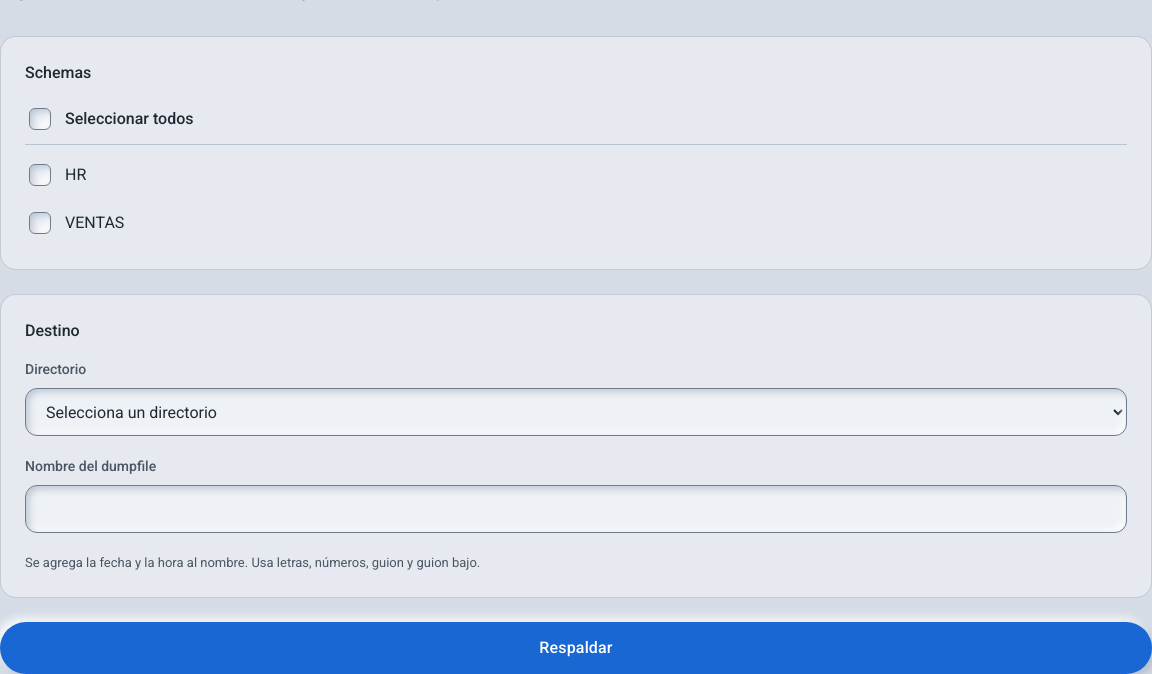
resultado del respaldo de schemas › si expdp falla muestra el mensaje, la explicación antes del log y el log en un bloque aparte
(page scrolled)
Click the button "Respaldar". click: [576, 648]
box: x1=0 y1=622 x2=1151 y2=673
(page scrolled)
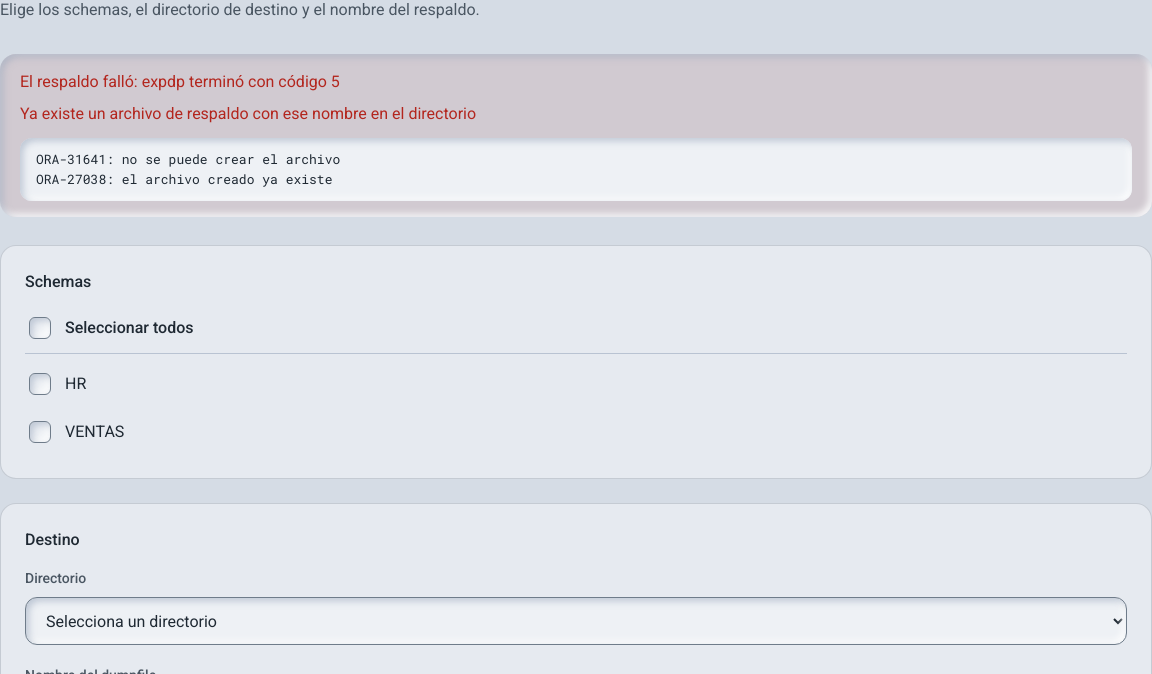
Expected: the message shows "expdp terminó con código 5", x1=20 y1=72 x2=340 y2=91
